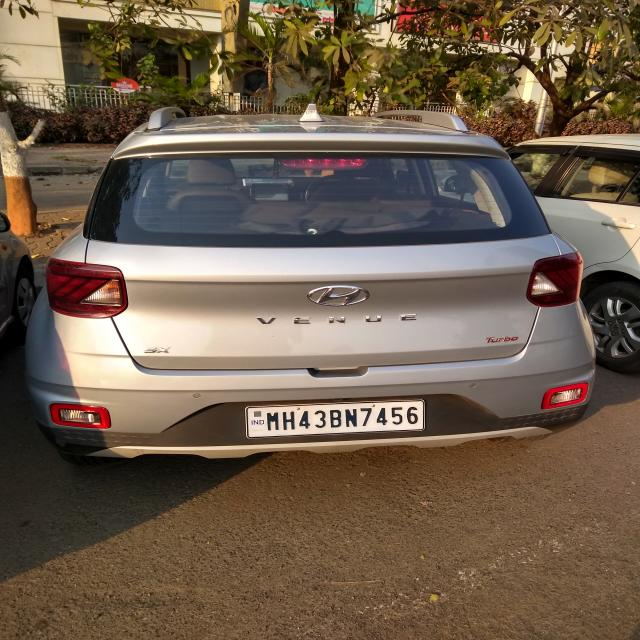Number-Plate: (248, 404, 427, 436)
